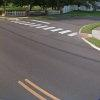Crosswalk: (8, 15, 76, 47)
